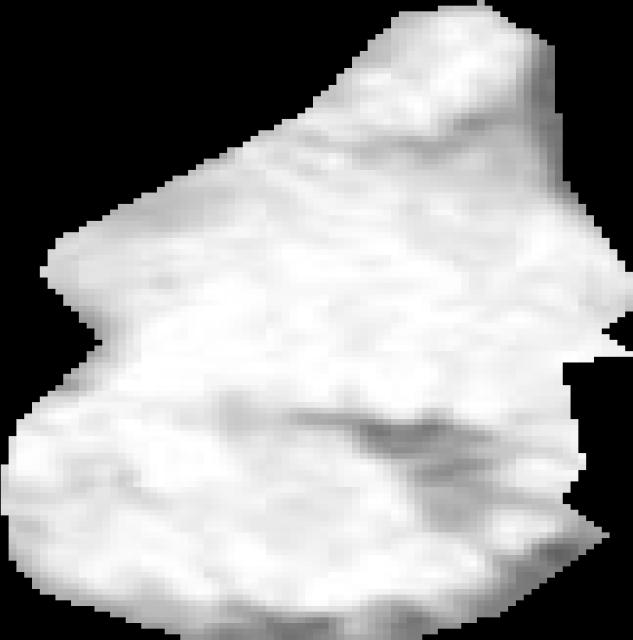tumor_good_chance: (1, 0, 633, 640)
